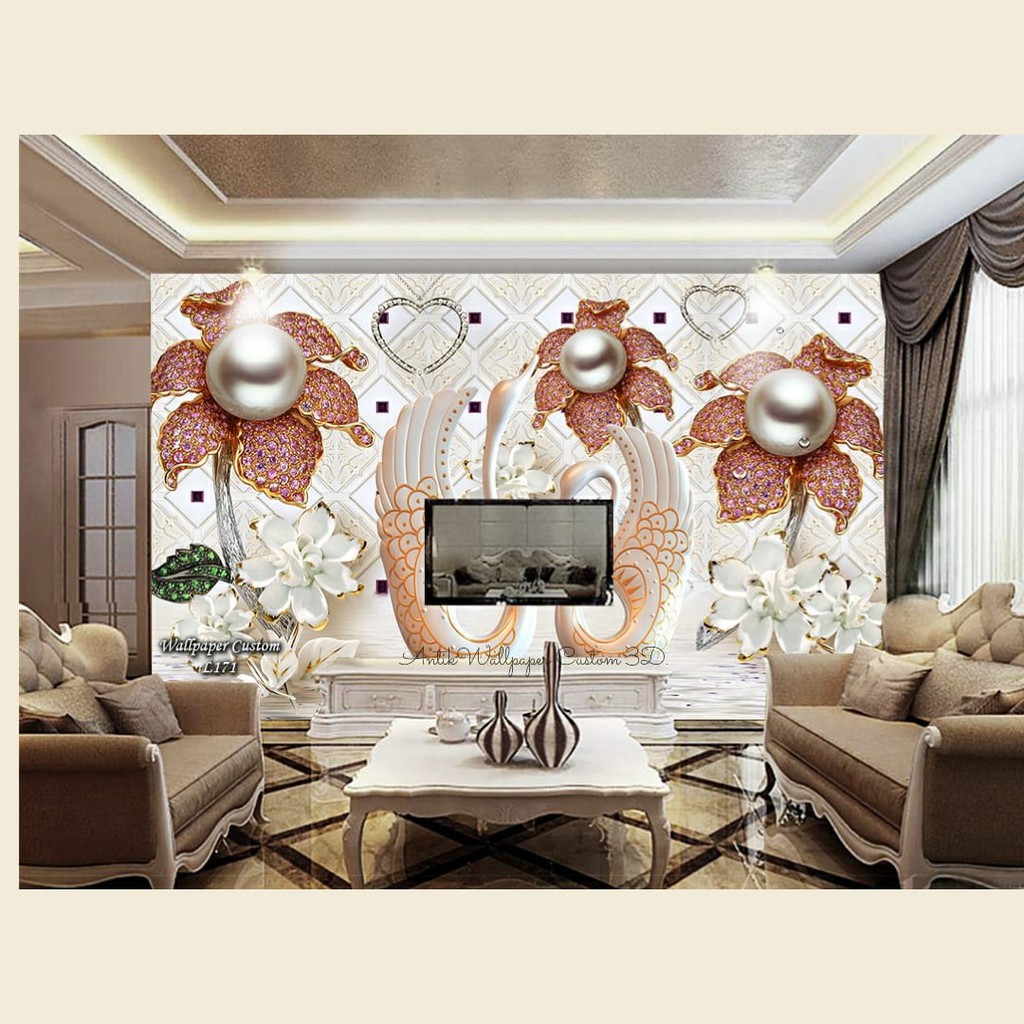bantal: (843, 650, 926, 720), (100, 676, 185, 744)
gelas: (433, 711, 472, 746)
meja: (345, 710, 667, 890)
sova: (20, 596, 281, 889), (769, 595, 1023, 889)
tv: (417, 496, 622, 610)
